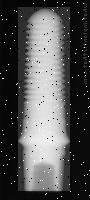Implant Direct: (12, 6, 72, 193)
